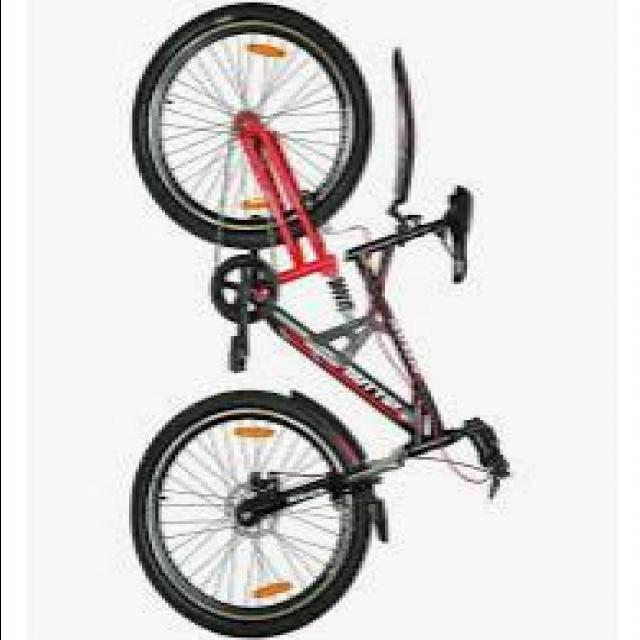bicycle: (77, 8, 513, 640)
